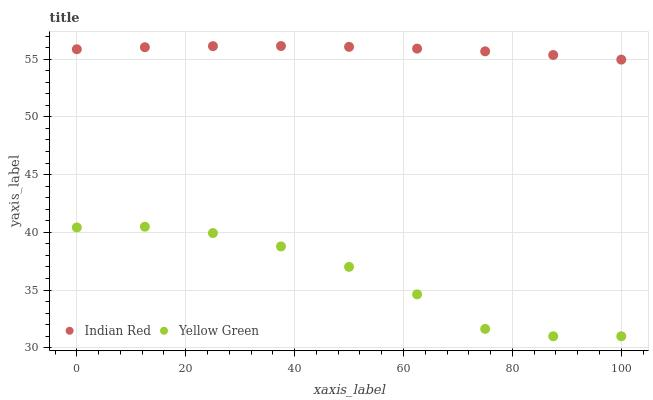axis: (60, 345, 653, 357), (44, 31, 55, 350)
legend: (62, 315, 267, 345)
point: (71, 43, 84, 56), (616, 53, 628, 66), (479, 321, 491, 334), (478, 47, 493, 57), (275, 39, 286, 52), (615, 329, 626, 341), (141, 43, 152, 54), (207, 42, 218, 53), (548, 331, 558, 343), (344, 41, 353, 52), (553, 52, 561, 61), (412, 48, 423, 54)
